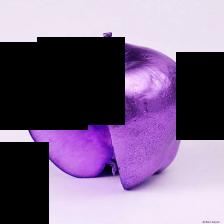purple: (23, 33, 192, 190)
